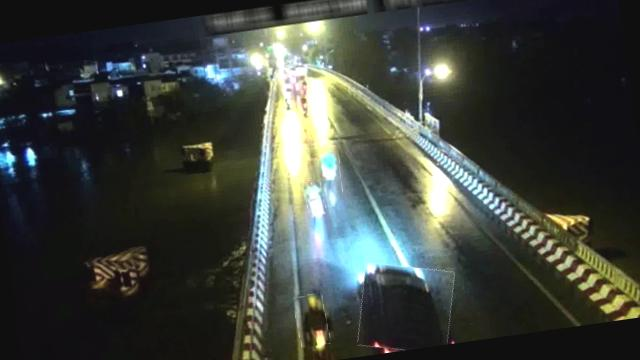Bike: (293, 293, 330, 348), (318, 144, 344, 196), (303, 179, 326, 216), (300, 97, 311, 114)
Car: (351, 255, 460, 356)
